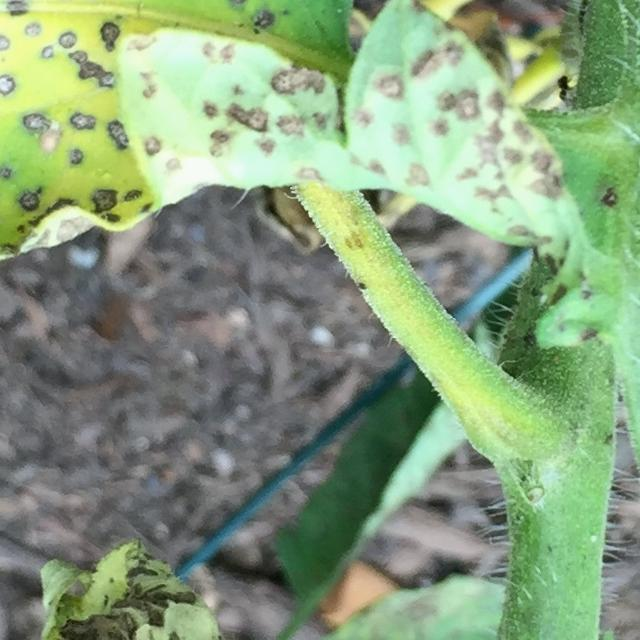Tomato Septoria leaf spot: (0, 0, 640, 295), (17, 531, 638, 640), (634, 0, 640, 353)
